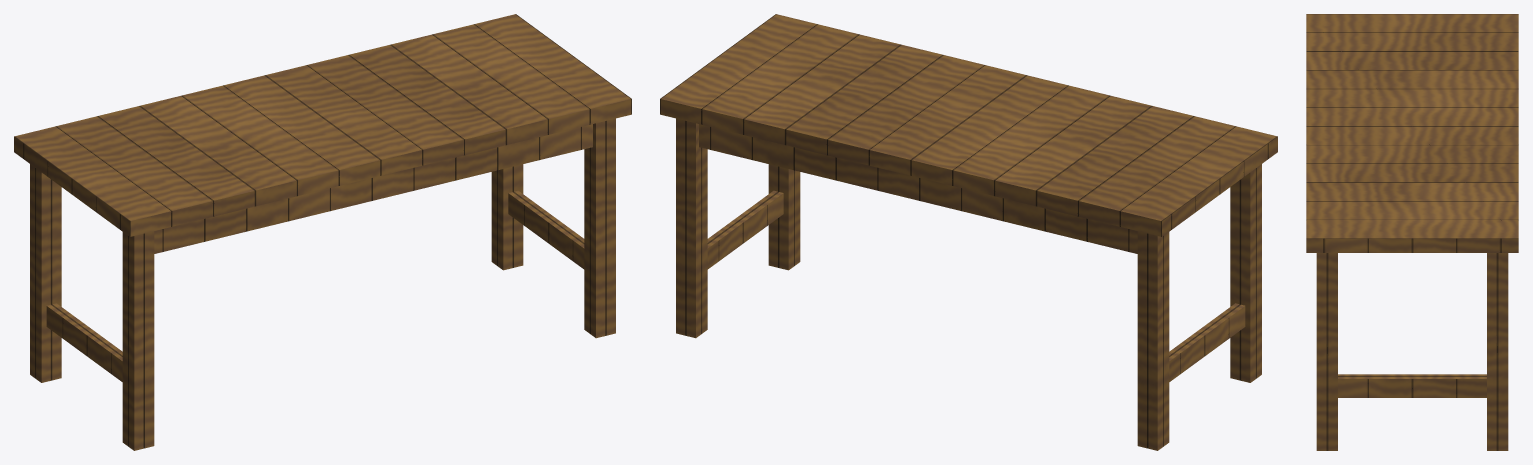
File: table.glb
The picture shows the model from 3 angles, left to right: view 1: azimuth 30°, elevation 25°; view 2: azimuth 150°, elevation 25°; view 3: azimuth 270°, elevation 25°; orthographic projection. The views are drawn at different scales.
Parts seen in each view (by area): view 1: Table; view 2: Table; view 3: Table.
Part boxes in pixels (x1=…): Table: x1=14, y1=14, x2=631, y2=450; Table: x1=660, y1=14, x2=1277, y2=450; Table: x1=1306, y1=14, x2=1518, y2=450.
Size of the model in its own units: 2 by 0.9 by 0.8.
1 material, 1 textured.
